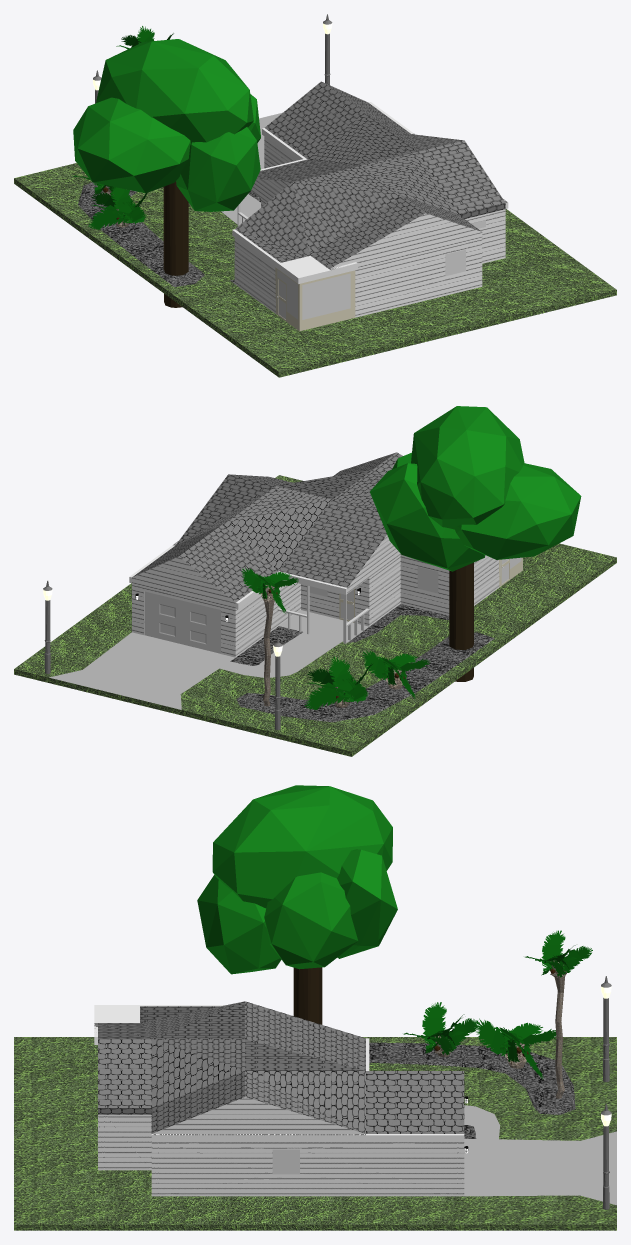
File: LadyLake.glb
3 views of the same model, one above another, from view 1: azimuth 30°, elevation 25°; view 2: azimuth 150°, elevation 25°; view 3: azimuth 270°, elevation 25° (orthographic). The views are drawn at different scales.
Parts seen in each view (by area): view 1: Ground, Roof, Leaves, Ext Walls, Trunk, Branches.002, Streetlight; view 2: Ground, Roof, Leaves, Ext Walls, Branches.002, Garage Door, Trunk, Floor, Streetlight, Trunk.001, Railings, Door; view 3: Ground, Roof, Leaves, Ext Walls, Branches.002, Trunk, Streetlight, Trunk.001.
Part boxes in pixels (x1,y1,x2,y2): Ground: (14,112,616,377); Roof: (232,81,508,283); Leaves: (73,39,260,211); Ext Walls: (234,136,505,331); Trunk: (163,181,188,307); Branches.002: (72,26,173,229); Streetlight: (93,14,332,103); Ground: (14,475,616,756); Roof: (129,452,403,609); Leaves: (370,406,581,571); Ext Walls: (132,555,522,657); Branches.002: (241,567,429,709); Garage Door: (144,591,220,653); Trunk: (449,562,473,681); Floor: (145,610,368,653); Streetlight: (43,580,282,729); Trunk.001: (260,585,402,707); Railings: (277,585,369,643); Door: (339,558,509,622); Ground: (14,1037,616,1230); Roof: (94,1001,464,1142); Leaves: (197,785,397,974); Ext Walls: (98,1114,464,1196); Branches.002: (403,930,592,1079); Trunk: (293,967,322,1024); Streetlight: (601,976,611,1209); Trunk.001: (432,960,566,1098).
Bounding box in the file's own units: 24.41 × 14.45 × 26.96.
Materials: 21 (6 with a texture image).
